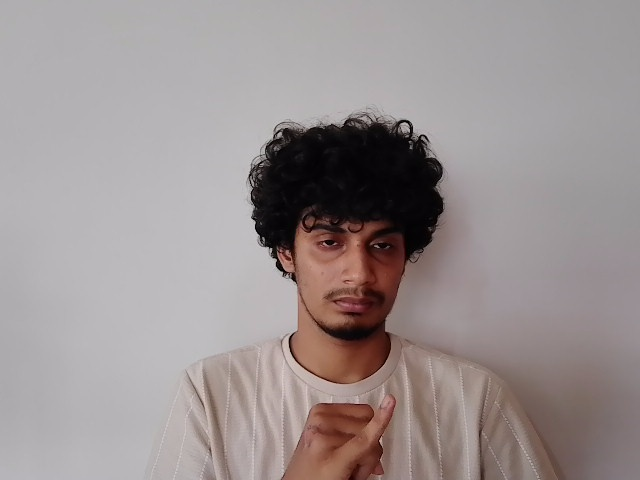bad: (286, 395, 401, 480)
